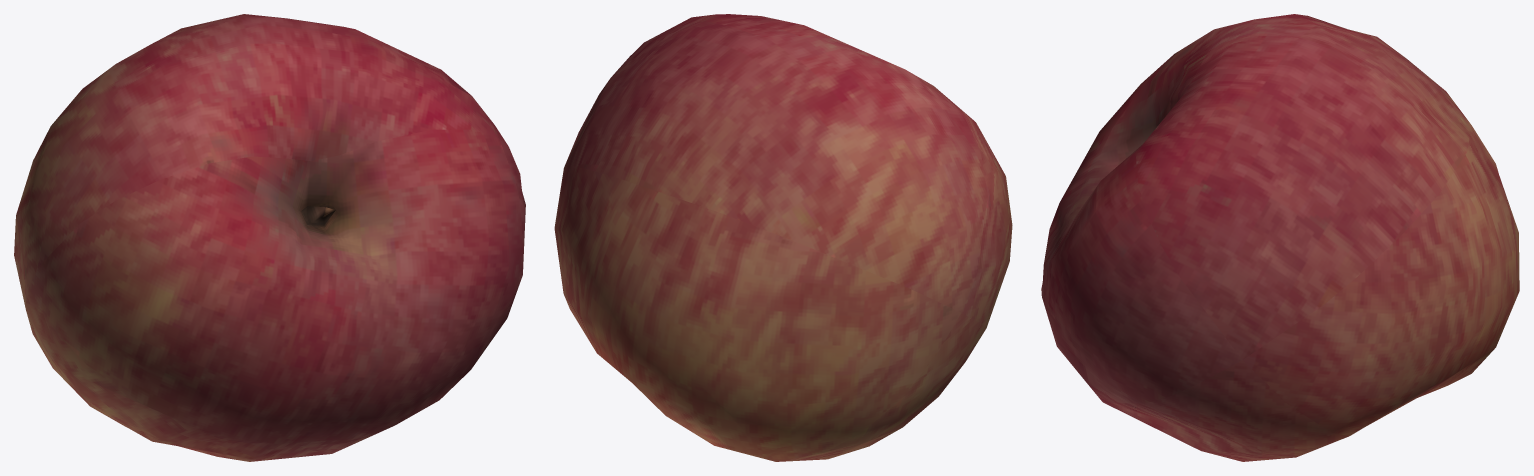
The model's file is ref_apple.glb.
3 renders of one model, left to right at view 1: azimuth 30°, elevation 25°; view 2: azimuth 150°, elevation 25°; view 3: azimuth 270°, elevation 25°, orthographic. The views are drawn at different scales.
Visible parts, largest first — view 1: ref_apple; view 2: ref_apple; view 3: ref_apple.
Boxes of the visible parts, x1=… form: ref_apple: x1=14, y1=14, x2=525, y2=461; ref_apple: x1=554, y1=14, x2=1012, y2=461; ref_apple: x1=1041, y1=14, x2=1519, y2=461.
Size of the model in its own units: 1 by 0.9157 by 0.9814.
1 material, 1 textured.
